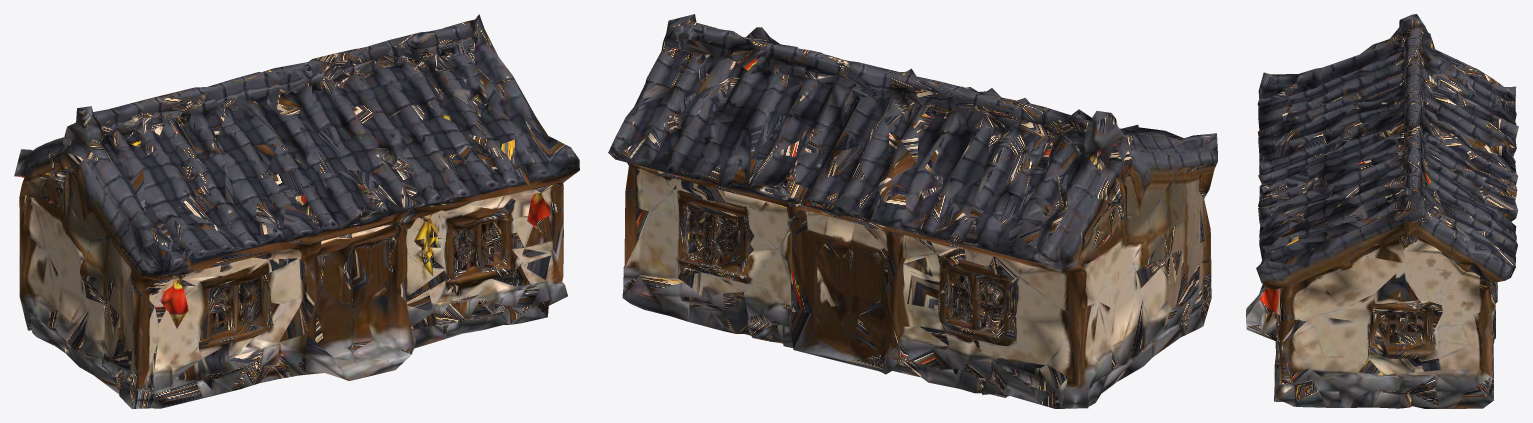
The model's file is bq_farmhouse.far.glb.
3 views of the same model, side by side, from view 1: azimuth 30°, elevation 25°; view 2: azimuth 150°, elevation 25°; view 3: azimuth 270°, elevation 25° (orthographic). The views are drawn at different scales.
Size of the model in its own units: 1.89 by 1.02 by 1.15.
1 material, 1 textured.
